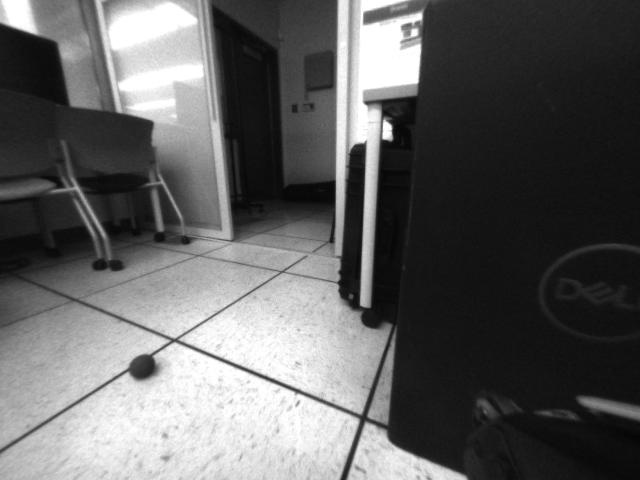dogtoy: (122, 351, 163, 381)
